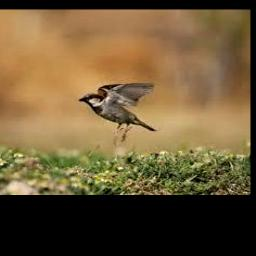Sparrow: (79, 83, 157, 146)
